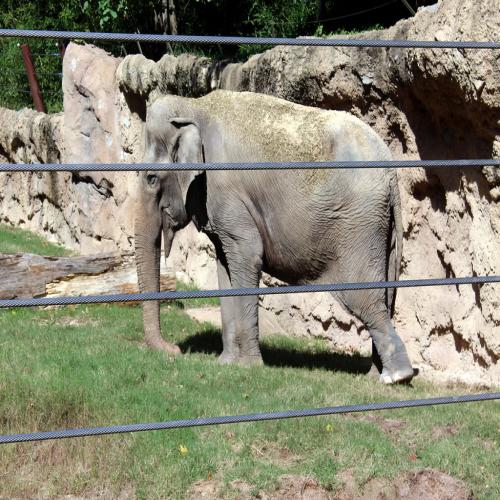asian_elephant-endangered: (134, 90, 416, 386)
